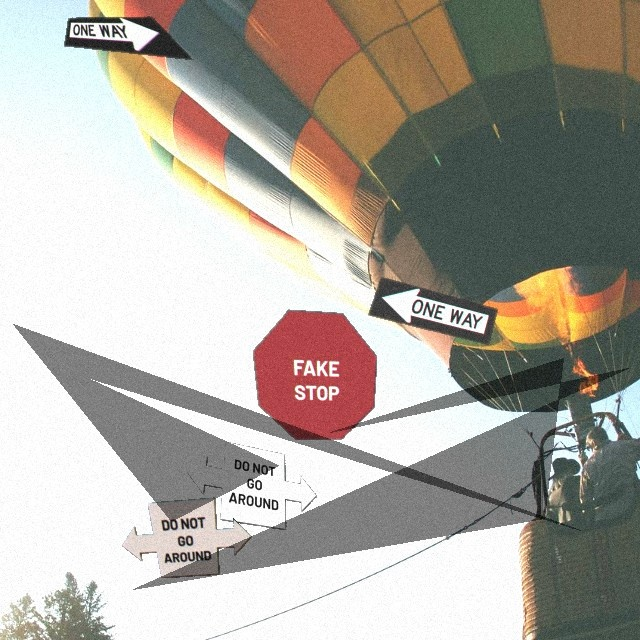DO_NOT_GO_AROUND: (186, 441, 317, 530), (121, 497, 252, 578)
FAKE_STOP: (252, 309, 377, 440)
ONE_WAY_ left: (367, 276, 498, 345)
ONE_WAY_ right: (63, 16, 194, 60)
